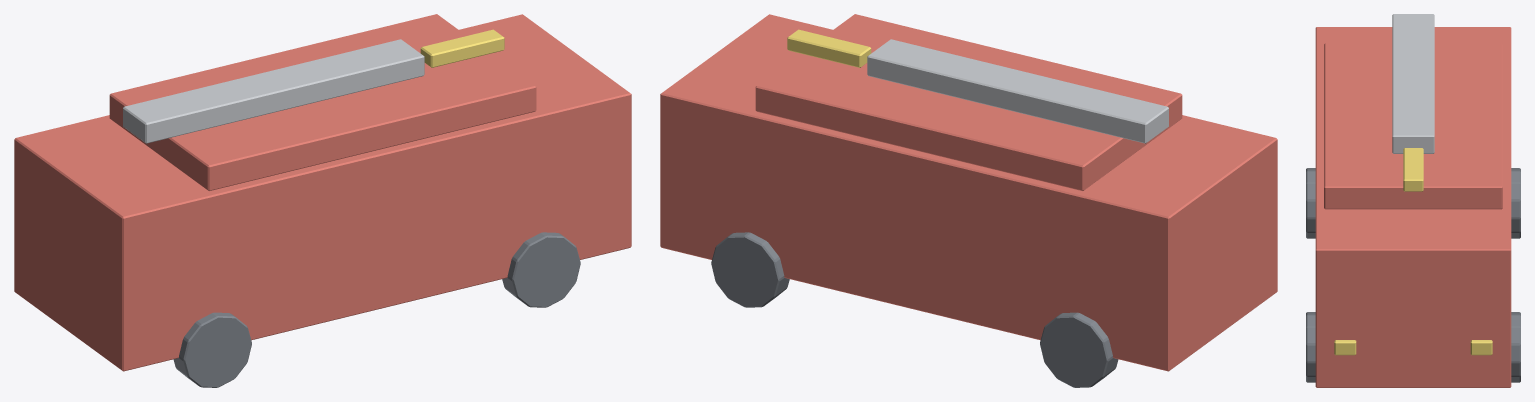
The model's file is 车_消防车_01.fbx.
3 renders of one model, left to right at view 1: azimuth 30°, elevation 25°; view 2: azimuth 150°, elevation 25°; view 3: azimuth 270°, elevation 25°, orthographic. The views are drawn at different scales.
Parts seen in each view (by area): view 1: 车身.004, 车顶.004, 云梯, 车轮.006, 警灯.001; view 2: 车身.004, 车顶.004, 云梯, 车轮.006, 警灯.001; view 3: 车身.004, 车顶.004, 云梯, 车轮.006, 警灯.001, 车灯.004.
Part boxes in pixels (x1,y1,x2,y2): 车身.004: (14, 14, 631, 371); 车顶.004: (109, 14, 536, 190); 云梯: (123, 39, 424, 143); 车轮.006: (173, 232, 580, 387); 警灯.001: (420, 29, 504, 67); 车身.004: (660, 14, 1277, 371); 车顶.004: (755, 14, 1182, 190); 云梯: (867, 39, 1168, 143); 车轮.006: (711, 232, 1118, 387); 警灯.001: (787, 29, 871, 67); 车身.004: (1315, 27, 1511, 387); 车顶.004: (1324, 43, 1502, 209); 云梯: (1392, 14, 1434, 153); 车轮.006: (1306, 168, 1520, 382); 警灯.001: (1403, 148, 1423, 191); 车灯.004: (1334, 340, 1492, 355).
Size of the model in its own units: 626 by 274 by 252.
